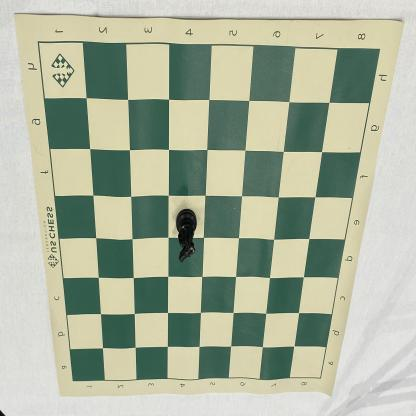black-knight: (175, 209, 197, 262)
